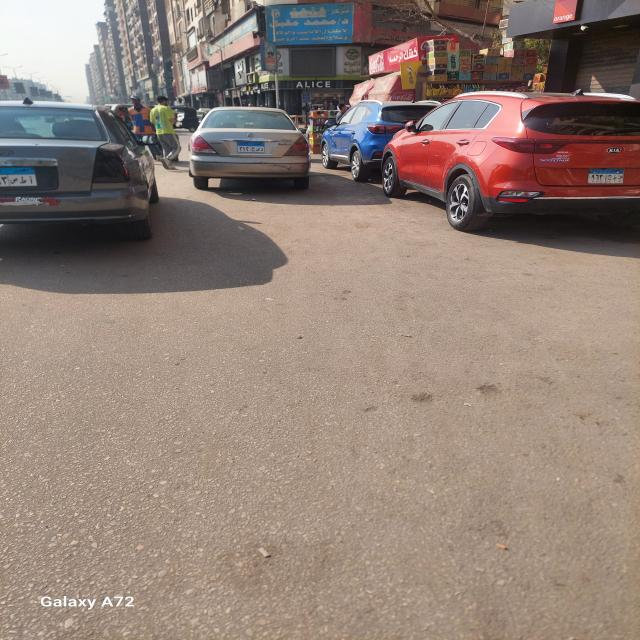car-plate: (0, 167, 36, 186), (588, 168, 623, 182), (237, 142, 264, 153)
